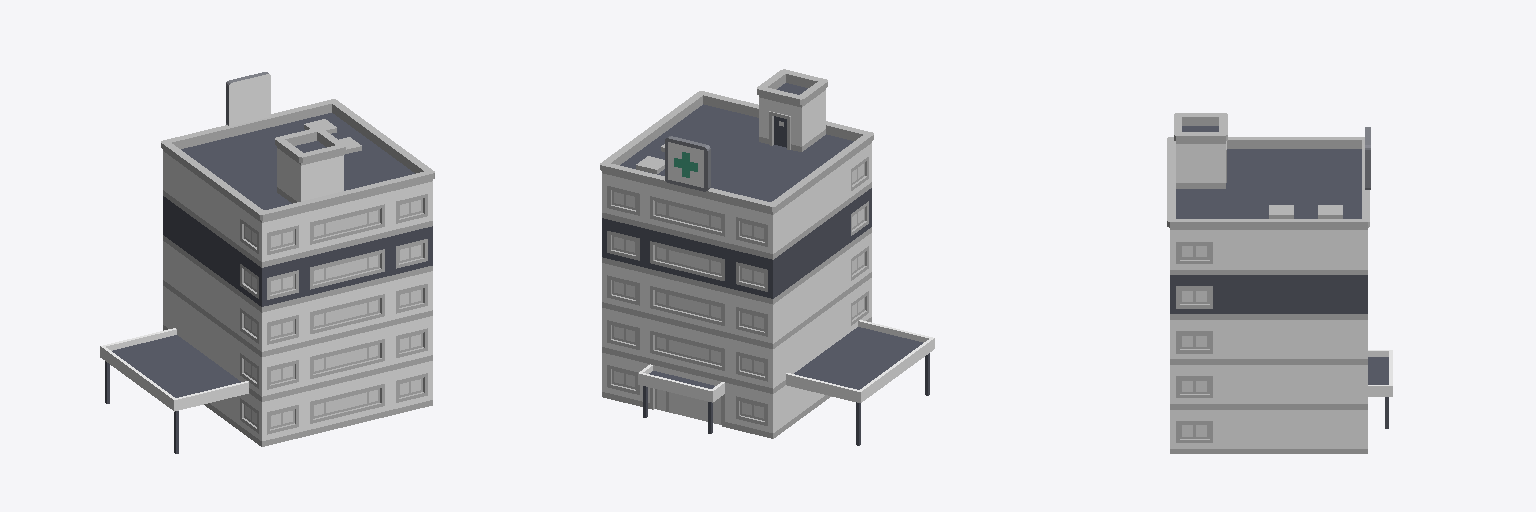
File: large_building04.obj
The picture shows the model from 3 angles: view 1: azimuth 30°, elevation 25°; view 2: azimuth 150°, elevation 25°; view 3: azimuth 270°, elevation 25°; orthographic projection.
Visible parts, largest first — view 1: sign_hospital; view 2: sign_hospital; view 3: sign_hospital.
Part boxes in pixels (left/top/right/bottom): sign_hospital: left=100, top=72, right=434, bottom=453; sign_hospital: left=600, top=69, right=934, bottom=445; sign_hospital: left=1167, top=113, right=1392, bottom=453.
Bounding box in the file's own units: 2.32 × 2.48 × 1.82.